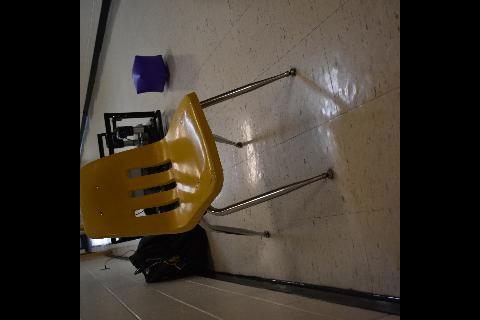cube: (131, 53, 169, 93)
